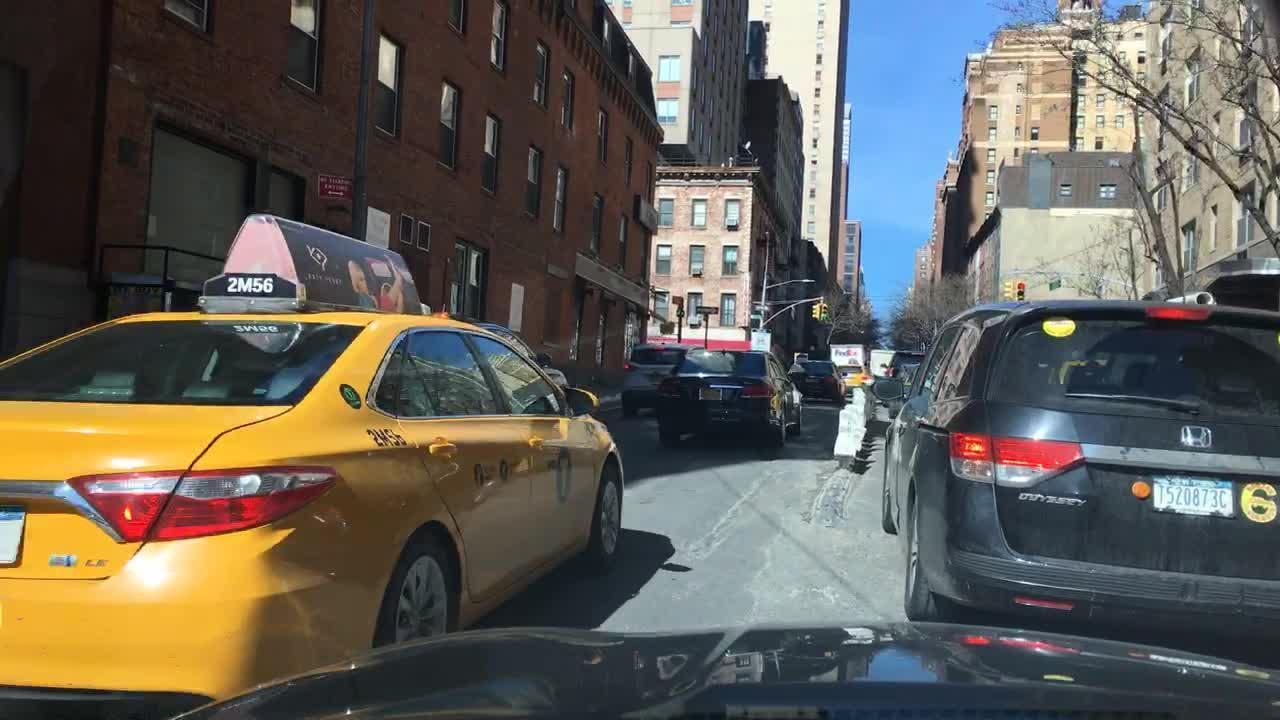Honda: (1177, 416, 1219, 458)
